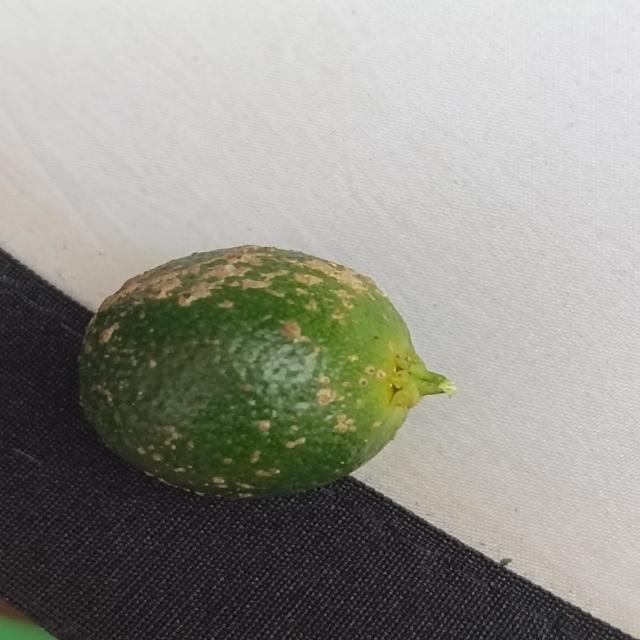scab: (80, 238, 439, 493)
